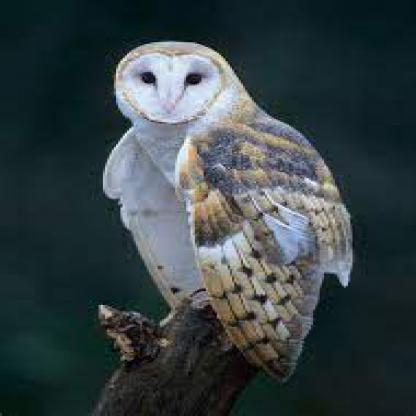owl: (79, 24, 403, 414)
